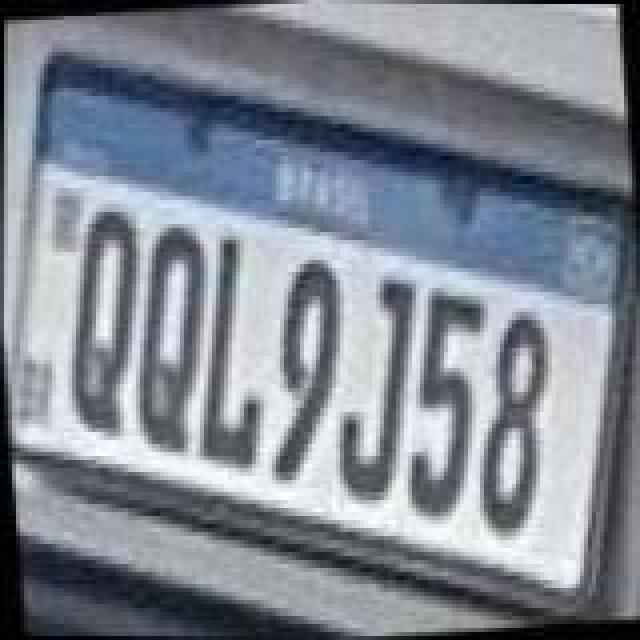5: (388, 282, 508, 522)
8: (462, 308, 570, 540)
9: (252, 252, 360, 484)
J: (318, 276, 434, 508)
L: (180, 232, 272, 468)
Q: (116, 220, 224, 456), (52, 208, 160, 440)
